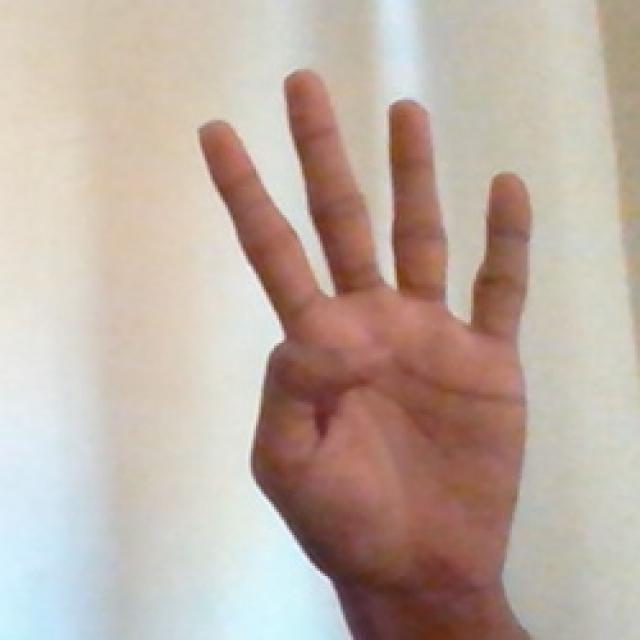Numeric-4: (195, 60, 534, 572)
